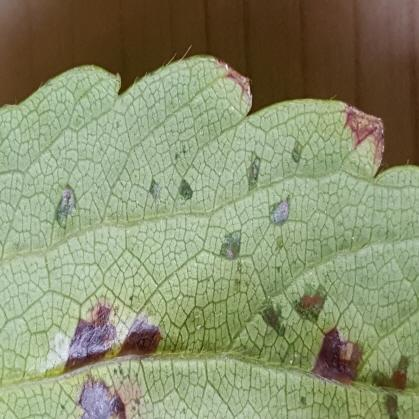Angular Leafspot: (20, 57, 418, 418)
